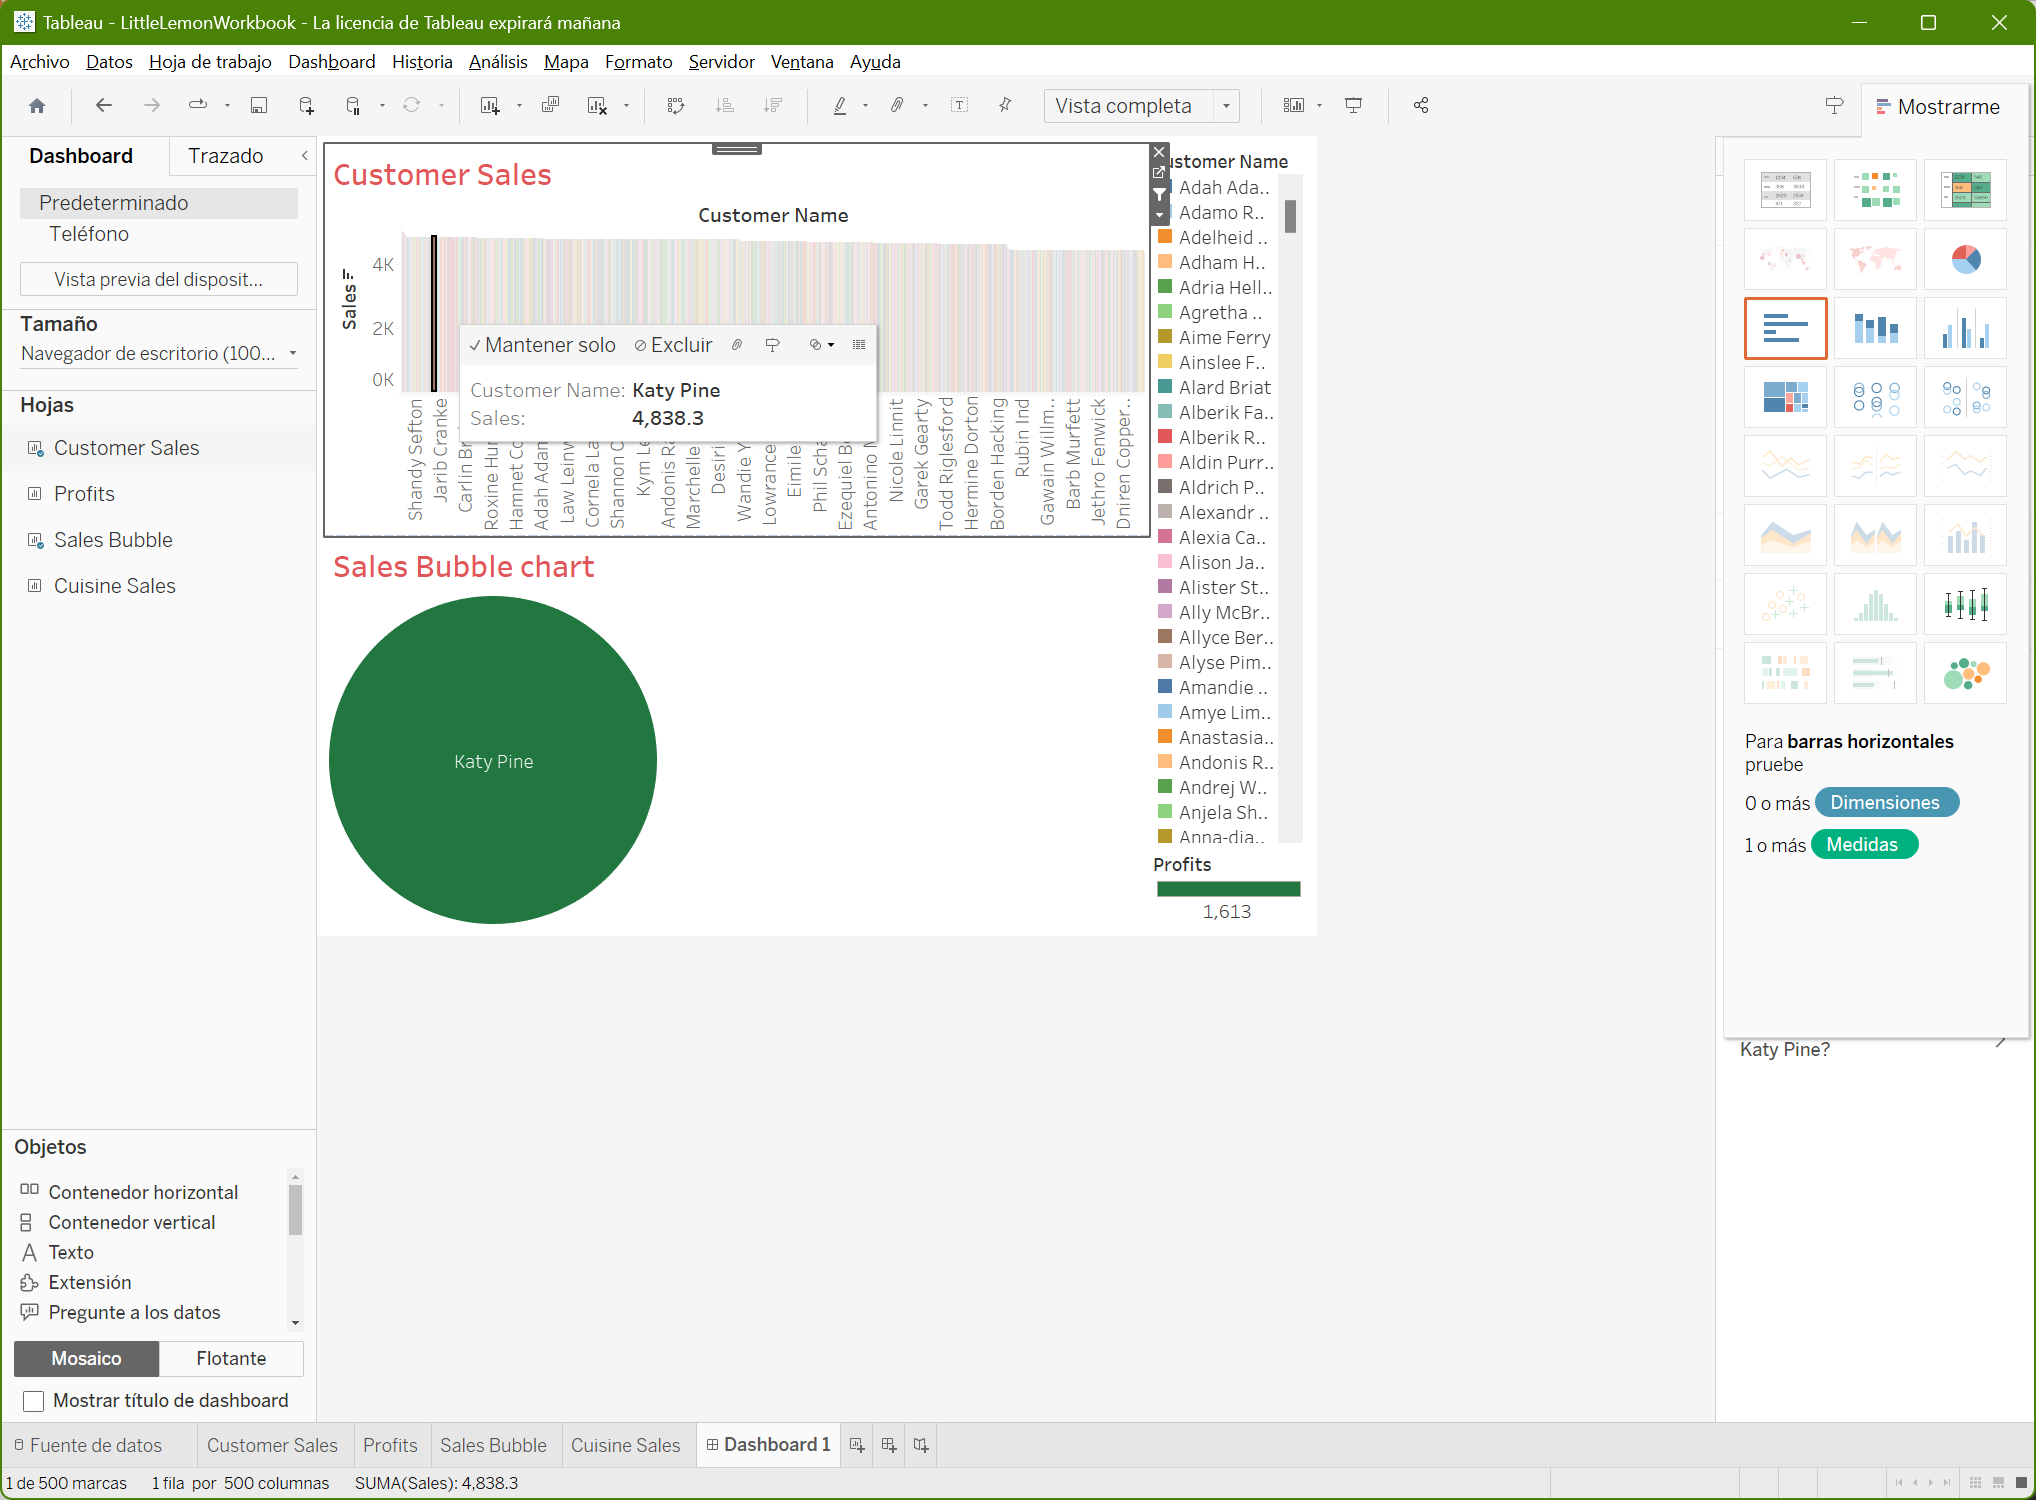

What the dashboard file says about the page in this screenshot:
{"tool":"tableau","page":{"name":"Dashboard 1","canvas":[1000,800],"ordinal":0},"visuals":[{"type":"worksheet","title":"Customer Sales","mark":"Automatic","rows":["Sales"],"cols":["Customer Name"],"box":[8,8,824,392]},{"type":"legend","title":"Customer Sales","param":"[federated.0quvwc00mm64jy1dh9g7z1jlzpol].[none:Customer Name:nk]","box":[832,8,160,703]},{"type":"worksheet","title":"Sales Bubble","mark":"Circle","box":[8,400,824,392]},{"type":"legend","title":"Sales Bubble","param":"[federated.0quvwc00mm64jy1dh9g7z1jlzpol].[sum:Calculation_1502794919236919301:qk","box":[832,711,160,81]}]}

Visuals, with their boxes on the page's 1000x800 design canvas (x1, y1, x2, y2). These are canvas units, not pixel positions in the 2036x1500 screenshot, which may show the page scaled, cropped or inside an application window:
"Customer Sales" worksheet: (8, 8, 832, 400)
"Customer Sales" legend: (832, 8, 992, 711)
"Sales Bubble" worksheet (Circle marks): (8, 400, 832, 792)
"Sales Bubble" legend: (832, 711, 992, 792)
